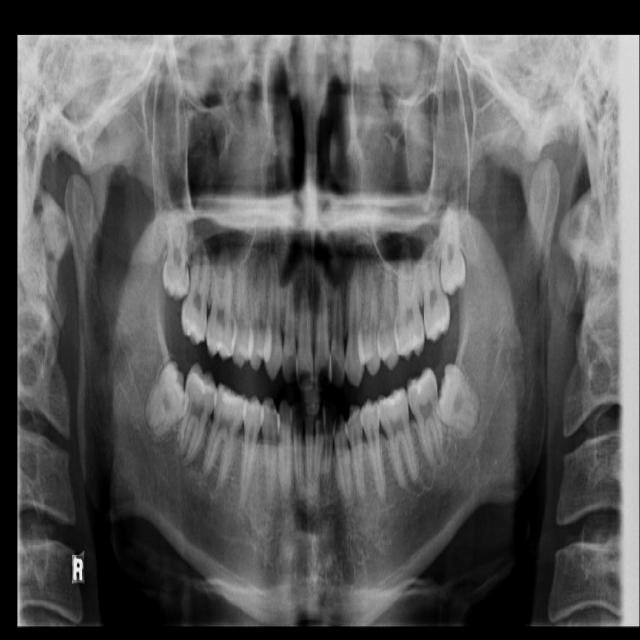impacted tooth: (436, 363, 486, 434), (142, 362, 187, 437), (163, 208, 191, 297), (440, 203, 466, 293)
